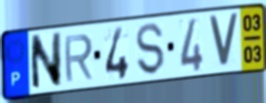4: (103, 24, 131, 82), (178, 15, 205, 73)
N: (28, 31, 63, 93)
R: (62, 32, 95, 85)
S: (135, 22, 167, 77)
V: (207, 12, 241, 69)
